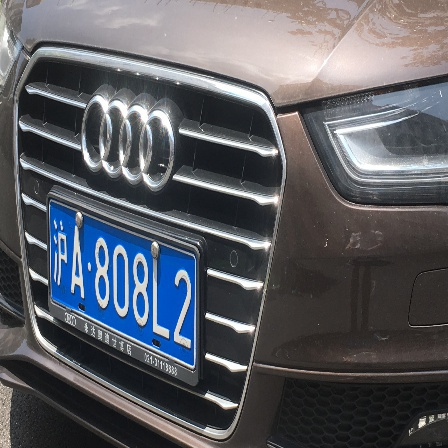plate: (44, 197, 203, 379)
